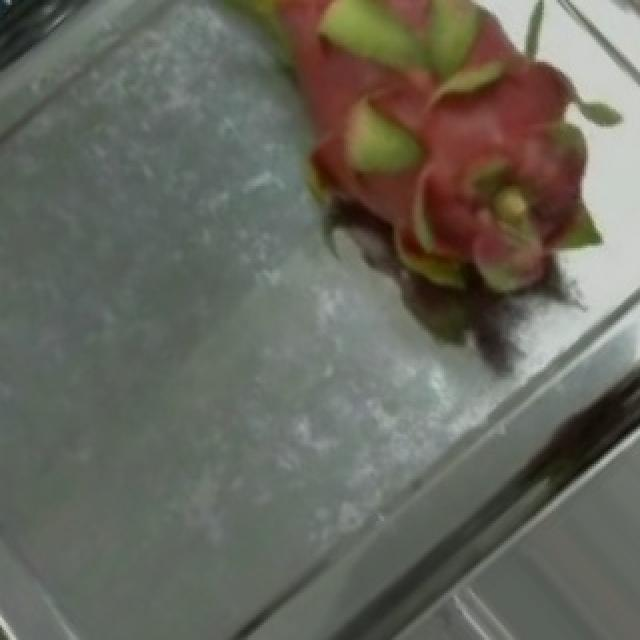fruit: (224, 0, 638, 409)
